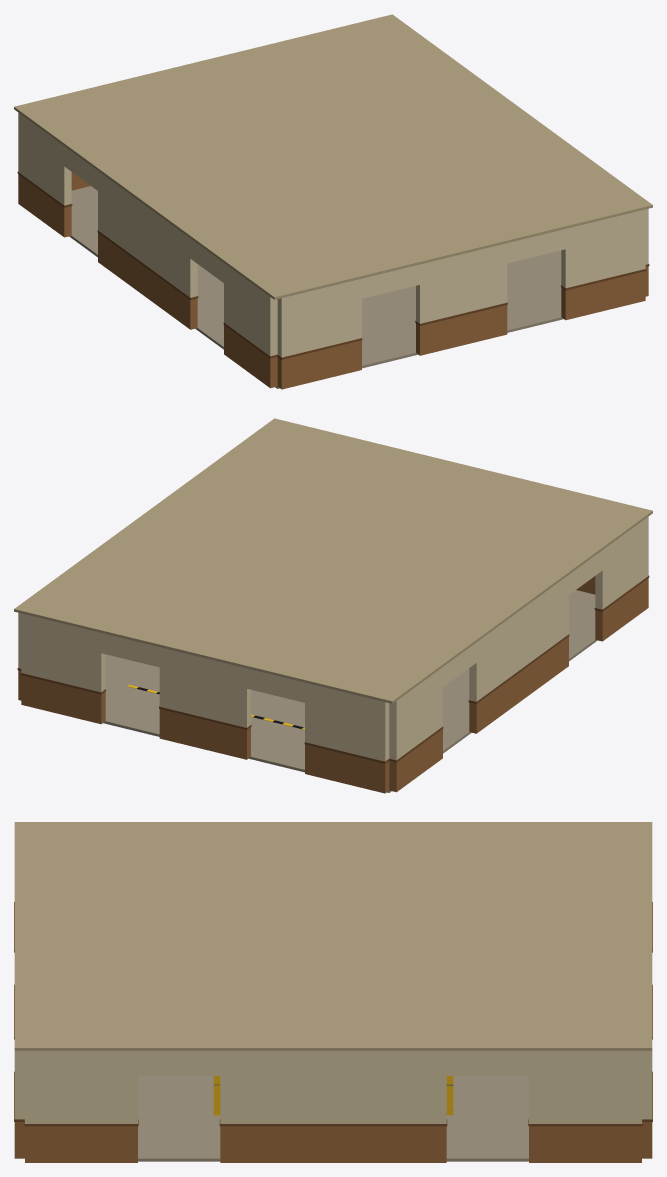
The model's file is room_shared_storage_large.glb.
The picture shows the model from 3 angles, top to bottom: view 1: azimuth 30°, elevation 25°; view 2: azimuth 150°, elevation 25°; view 3: azimuth 270°, elevation 25°; orthographic projection. The views are drawn at different scales.
Visible parts, largest first — view 1: room_shared_storage_large; view 2: room_shared_storage_large; view 3: room_shared_storage_large.
Part boxes in pixels (bbox=[...]): room_shared_storage_large: bbox=[14, 14, 652, 389]; room_shared_storage_large: bbox=[14, 418, 652, 793]; room_shared_storage_large: bbox=[14, 822, 652, 1162].
Bounding box in the file's own units: 15.62 × 3.8 × 18.64.
Materials: 1 (1 with a texture image).
